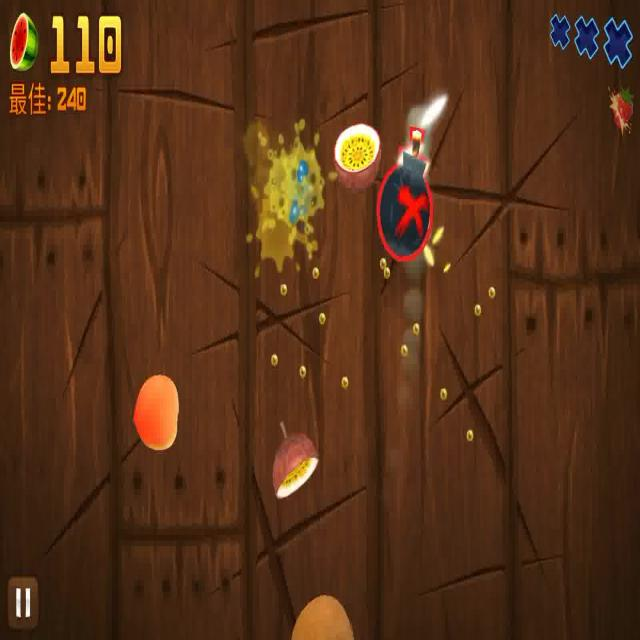bomb: (378, 87, 435, 274)
fruit: (266, 416, 322, 501), (133, 368, 180, 453), (284, 586, 357, 640), (330, 119, 382, 183)
